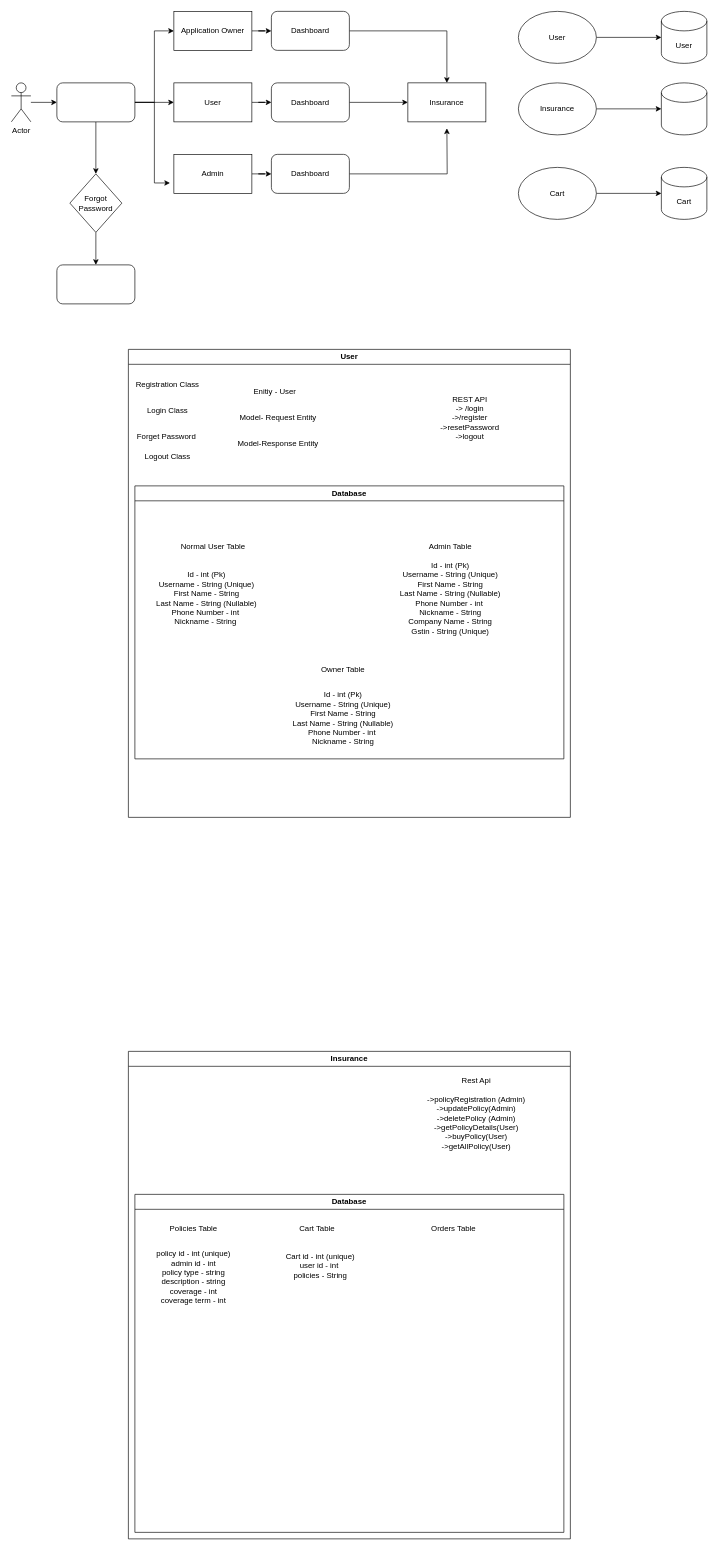
This 718x1550 diagram has some shape labels left out. The centre of each missing label's shape, as x and y in pixels:
Login/ Registration(Home): pixel 95 102
Policies: pixel 684 108
Update Passowrd: pixel 95 284
